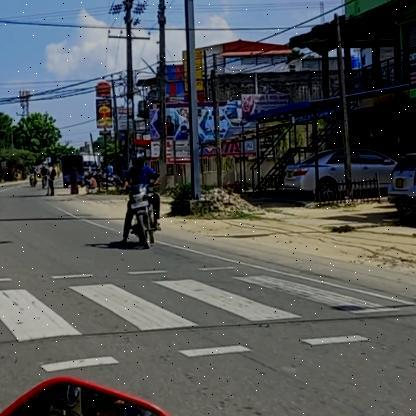motorcycle: (116, 182, 165, 254)
